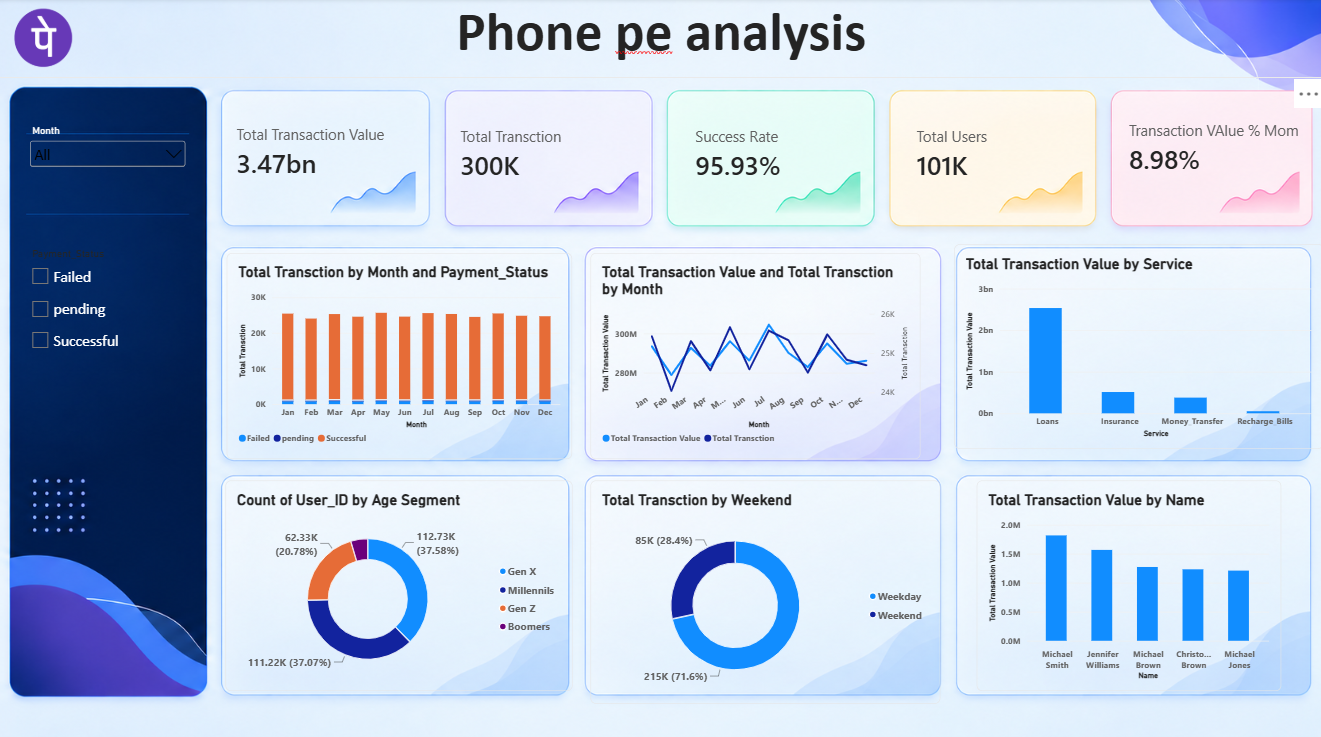

What the dashboard file says about the page in this screenshot:
{"tool":"powerbi","page":{"name":"Page 1","canvas":[1920,1080],"ordinal":0},"visuals":[{"type":"cardVisual","fields":{"Data":["Measures (2).Total Transaction"]},"box":[329.3,166.7,279.9,115.3],"z":0},{"type":"cardVisual","fields":{"Data":["Measures (2).Total Transction"]},"box":[652.5,166.7,236.7,121.4],"z":1000},{"type":"cardVisual","fields":{"Data":["Measures (2).Success Rate"]},"box":[994.2,166.7,236.7,121.4],"z":2000},{"type":"cardVisual","fields":{"Data":["Measures (2).Total Users"]},"box":[1313.2,166.7,232.6,121.4],"z":3000},{"type":"slicer","fields":{"Values":["Date_Table.Month"]},"box":[41.2,183.2,234.6,207.9],"z":4000},{"type":"cardVisual","fields":{"Data":["Measures (2).Transaction VAlue % Mom"]},"box":[1622,129.7,284,175],"z":5000},{"type":"lineChart","fields":{"Category":["Date_Table.Month"],"Y":["Measures (2).Total Transaction Value"],"Y2":["Measures (2).Total Transction"]},"box":[858.3,368.4,477.5,298.5],"z":6000},{"type":"columnChart","fields":{"Category":["All_Transactions.Service"],"Y":["Measures (2).Total Transaction Value"]},"box":[1385.3,356.1,535.2,296.4],"z":7000},{"type":"columnChart","fields":{"Category":["Date_Table.Month"],"Y":["Measures (2).Total Transction"],"Series":["All_Transactions.Payment_Status"]},"box":[331.4,368.4,500.2,298.5],"z":8000},{"type":"donutChart","fields":{"Category":["All_Users.Age Segment "],"Y":["CountNonNull(All_Transactions.User_ID)"]},"box":[329.3,697.8,502.2,304.6],"z":9000},{"type":"donutChart","fields":{"Category":["Date_Table.Weekend"],"Y":["Measures (2).Total Transction"]},"box":[858.3,697.8,506.3,323.2],"z":10000},{"type":"columnChart","fields":{"Category":["All_Users.Name"],"Y":["Measures (2).Total Transaction Value"]},"box":[1416.1,697.8,440.5,304.6],"z":11000},{"type":"textbox","box":[0,0,1920.4,115.3],"z":12000},{"type":"slicer","fields":{"Values":["All_Transactions.Payment_Status"]},"box":[41.2,362.3,234.6,273.8],"z":13000},{"type":"image","box":[22.6,0,84.4,115.3],"z":13001}]}

Visuals, with their boxes on the page's 1920x1080 design canvas (x1, y1, x2, y2). These are canvas units, not pixel positions in the 1321x737 screenshot, which may show the page scaled, cropped or inside an application window:
cardVisual - Measures (2).Total Transaction: [x1=329, y1=167, x2=609, y2=282]
cardVisual - Measures (2).Total Transction: [x1=652, y1=167, x2=889, y2=288]
cardVisual - Measures (2).Success Rate: [x1=994, y1=167, x2=1231, y2=288]
cardVisual - Measures (2).Total Users: [x1=1313, y1=167, x2=1546, y2=288]
slicer - Date_Table.Month: [x1=41, y1=183, x2=276, y2=391]
cardVisual - Measures (2).Transaction VAlue % Mom: [x1=1622, y1=130, x2=1906, y2=305]
lineChart - Date_Table.Month x Measures (2).Total Transaction Value: [x1=858, y1=368, x2=1336, y2=667]
columnChart - All_Transactions.Service x Measures (2).Total Transaction Value: [x1=1385, y1=356, x2=1920, y2=652]
columnChart - Date_Table.Month x Measures (2).Total Transction: [x1=331, y1=368, x2=832, y2=667]
donutChart - All_Users.Age Segment  x CountNonNull(All_Transactions.User_ID): [x1=329, y1=698, x2=832, y2=1002]
donutChart - Date_Table.Weekend x Measures (2).Total Transction: [x1=858, y1=698, x2=1365, y2=1021]
columnChart - All_Users.Name x Measures (2).Total Transaction Value: [x1=1416, y1=698, x2=1857, y2=1002]
textbox: [x1=0, y1=0, x2=1920, y2=115]
slicer - All_Transactions.Payment_Status: [x1=41, y1=362, x2=276, y2=636]
image: [x1=23, y1=0, x2=107, y2=115]
